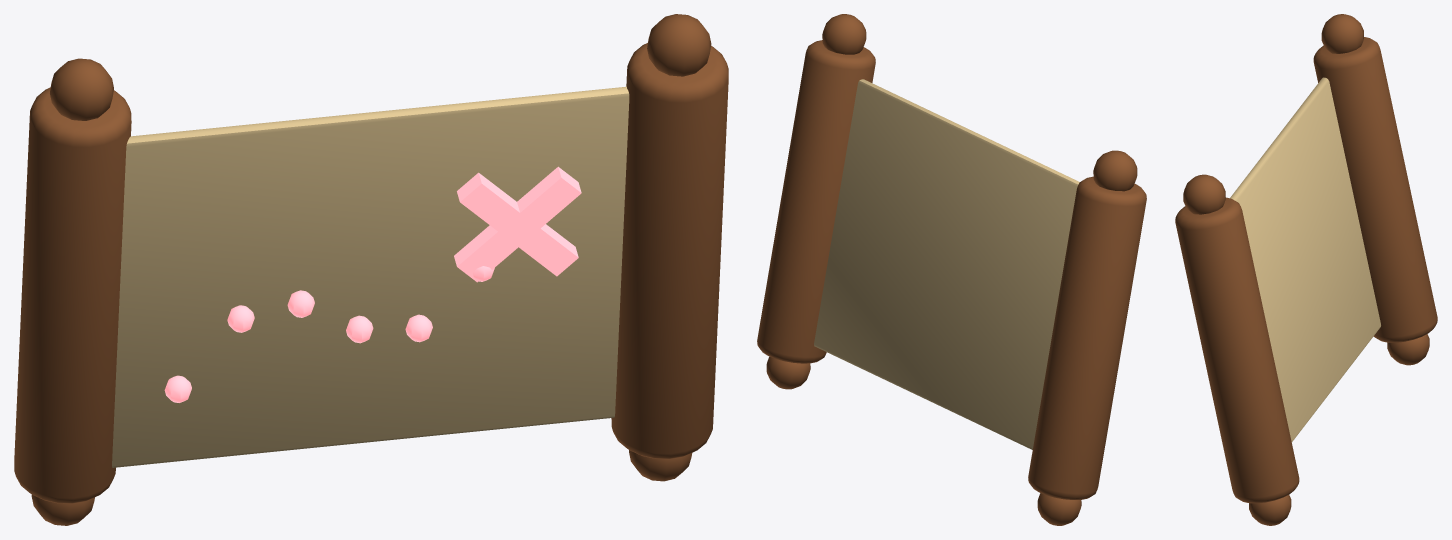
File: TreasureMap.fbx
3 renders of one model, left to right at view 1: azimuth 30°, elevation 25°; view 2: azimuth 150°, elevation 25°; view 3: azimuth 270°, elevation 25°, orthographic. The views are drawn at different scales.
Parts seen in each view (by area): view 1: TreasureMap_Body, TreasureMap_Trim, TreasureMap_Neon; view 2: TreasureMap_Body, TreasureMap_Trim; view 3: TreasureMap_Trim, TreasureMap_Body.
Boxes of the visible parts, box(x1,y1,x2,y2) form: TreasureMap_Body: box(112, 86, 629, 467); TreasureMap_Trim: box(14, 14, 728, 525); TreasureMap_Neon: box(164, 166, 581, 402); TreasureMap_Body: box(814, 79, 1079, 449); TreasureMap_Trim: box(757, 14, 1146, 525); TreasureMap_Trim: box(1175, 14, 1437, 525); TreasureMap_Body: box(1230, 77, 1380, 442).
Bounding box in the file's own units: 3 × 2.38 × 1.68.
